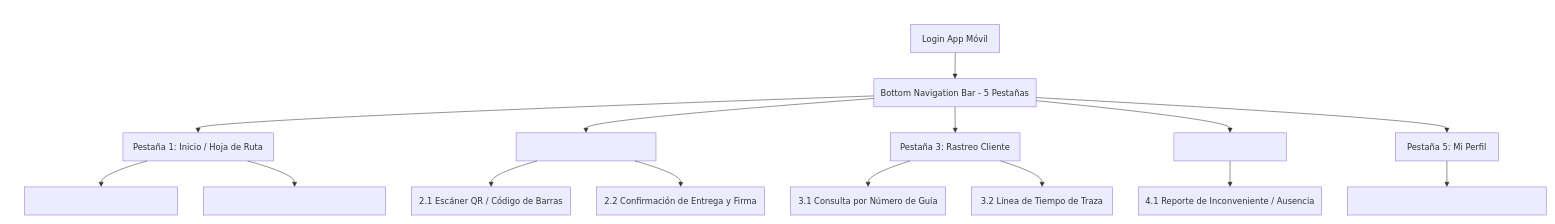
Some shapes in this 1555 by 224 pixel diagram are drawn without their labels. The centre of each missing label's shape, as x and y in pixels:
"1.1 Resumen de Entregas del Día" goes at point (101, 200).
"1.2 Detalle del Pedido y Navegación GPS" goes at point (294, 200).
"5.1 Datos del Operador / Estado Sync Offline" goes at point (1446, 200).
"Pestaña 2: Escáner / Captura" goes at point (586, 146).
"Pestaña 4: Novedades" goes at point (1229, 146).
